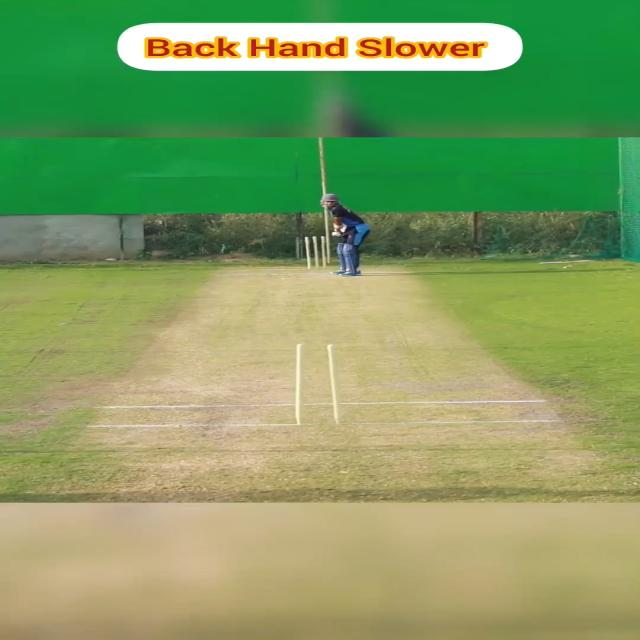stump: (290, 342, 342, 424), (303, 235, 328, 269)
